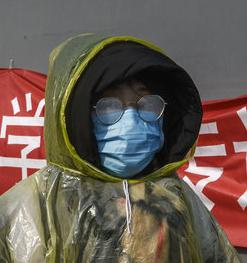OK: (90, 86, 162, 176)
